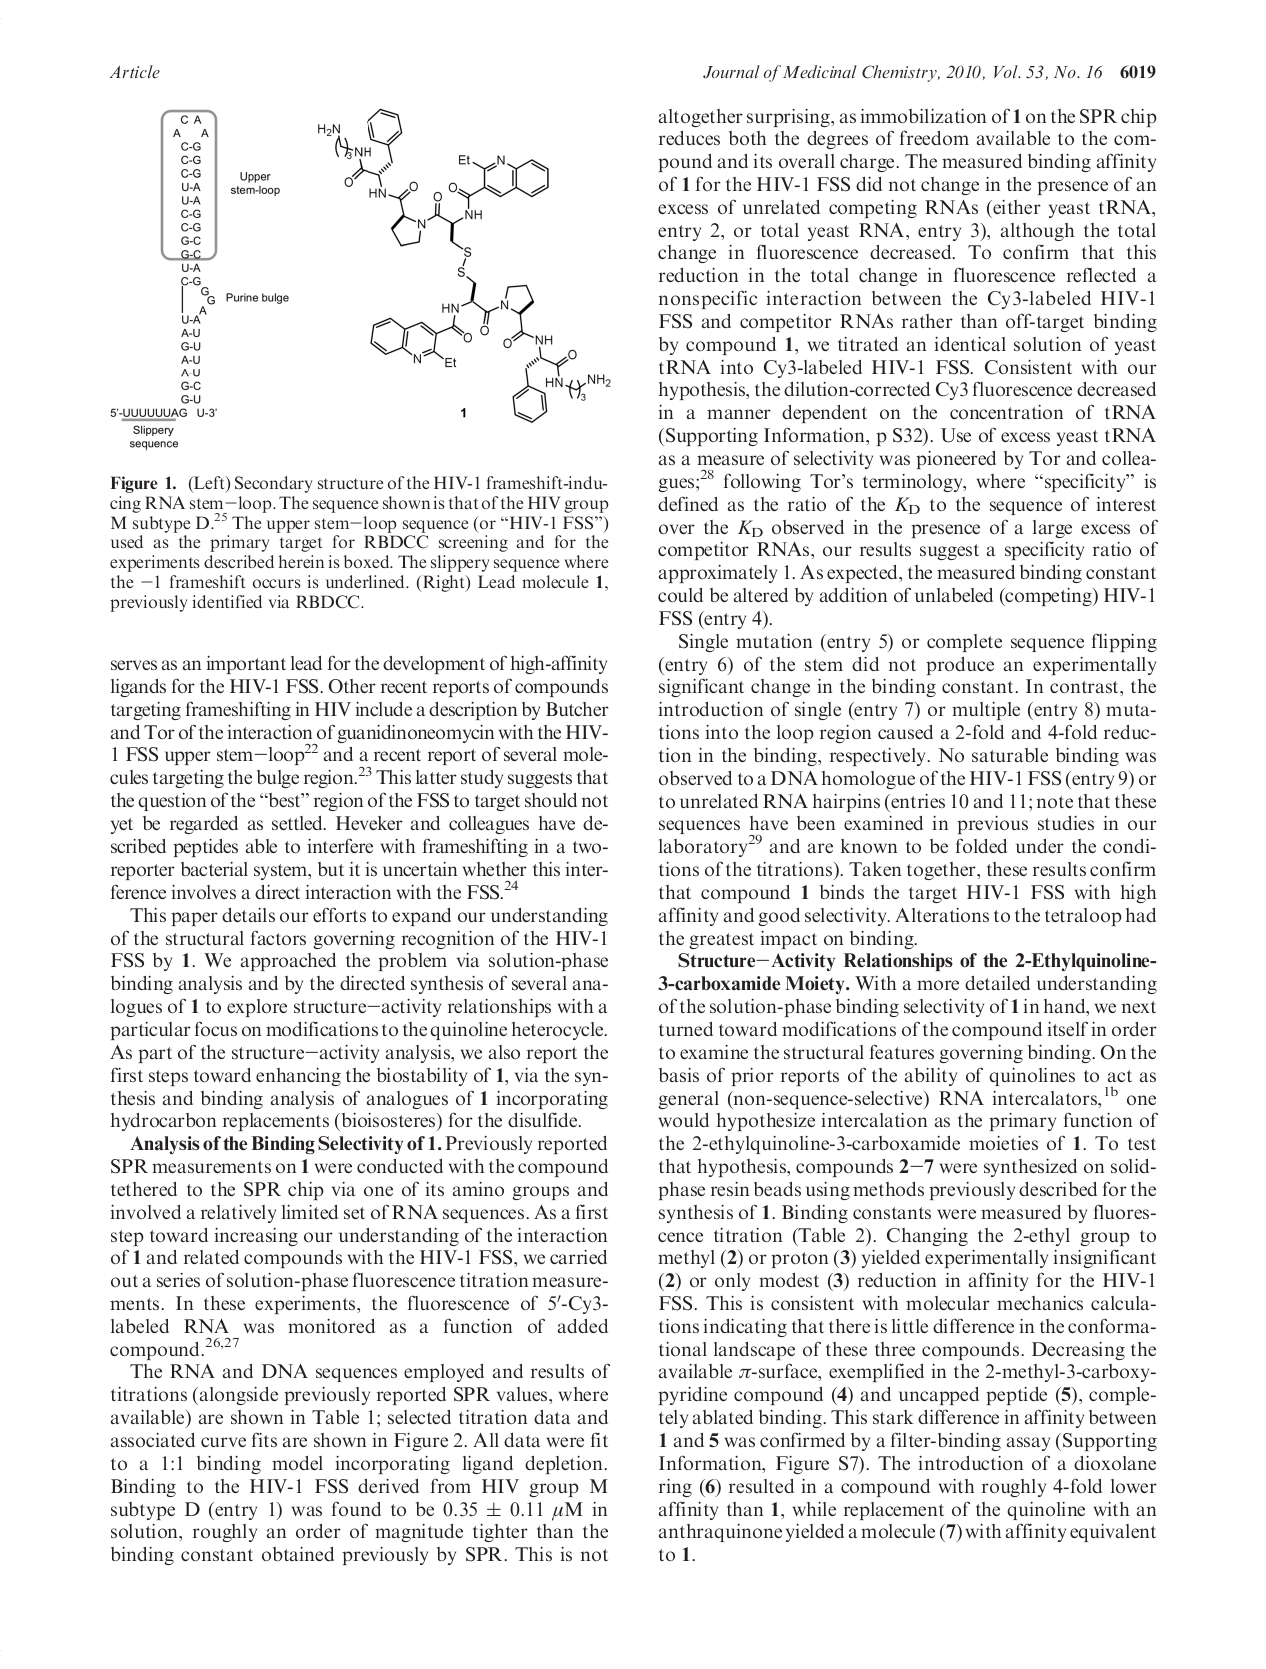exist_molecular: (298, 94, 612, 427)
